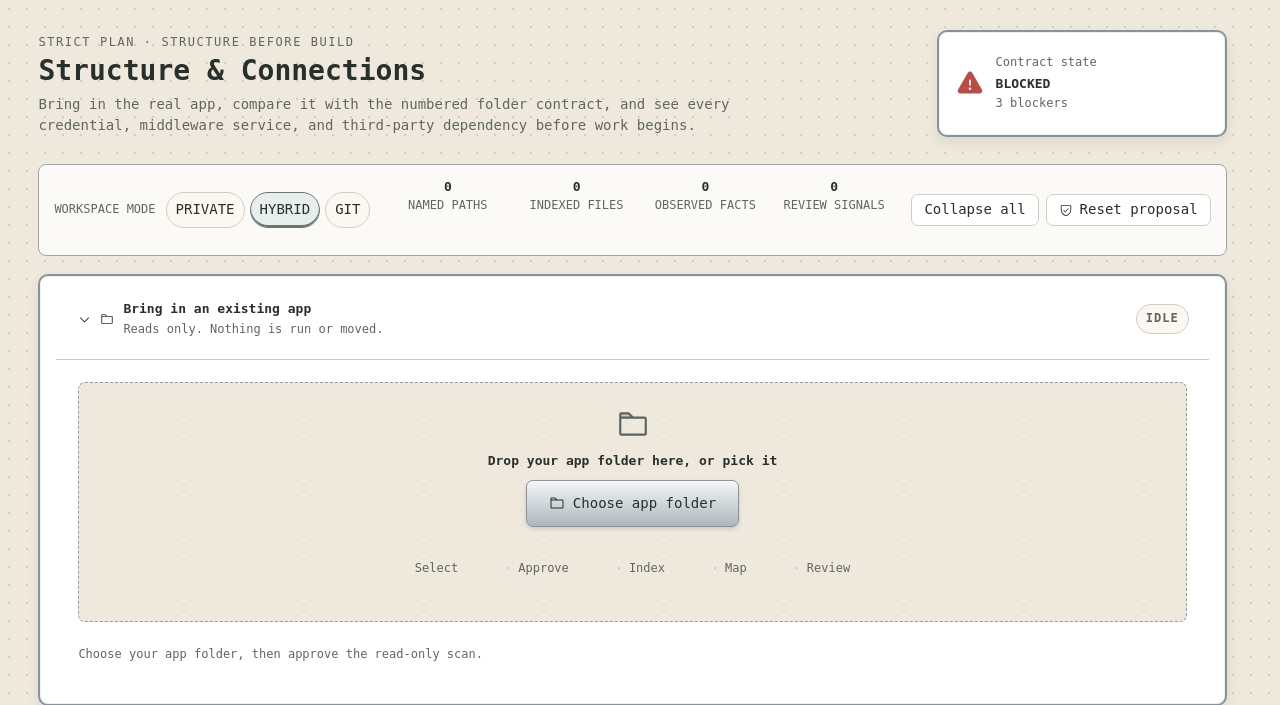
Test: Structure workspace runtime resilience › an authoritative-looking but unsafe census is visibly refused and only a fresh retry may publish
Click the button "Choose app folder" at (632, 503), box [526,480,739,527]
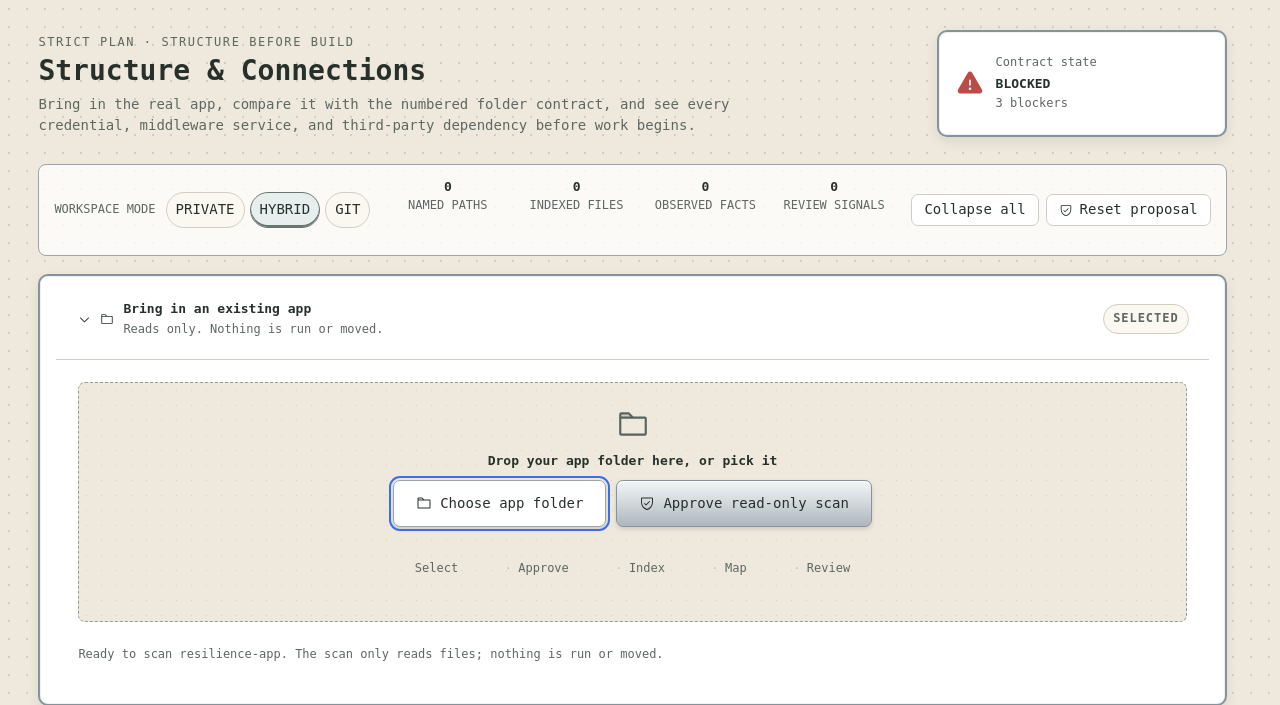
Click the button "Approve read-only scan" at (744, 503), box [616,480,872,527]
(page scrolled)
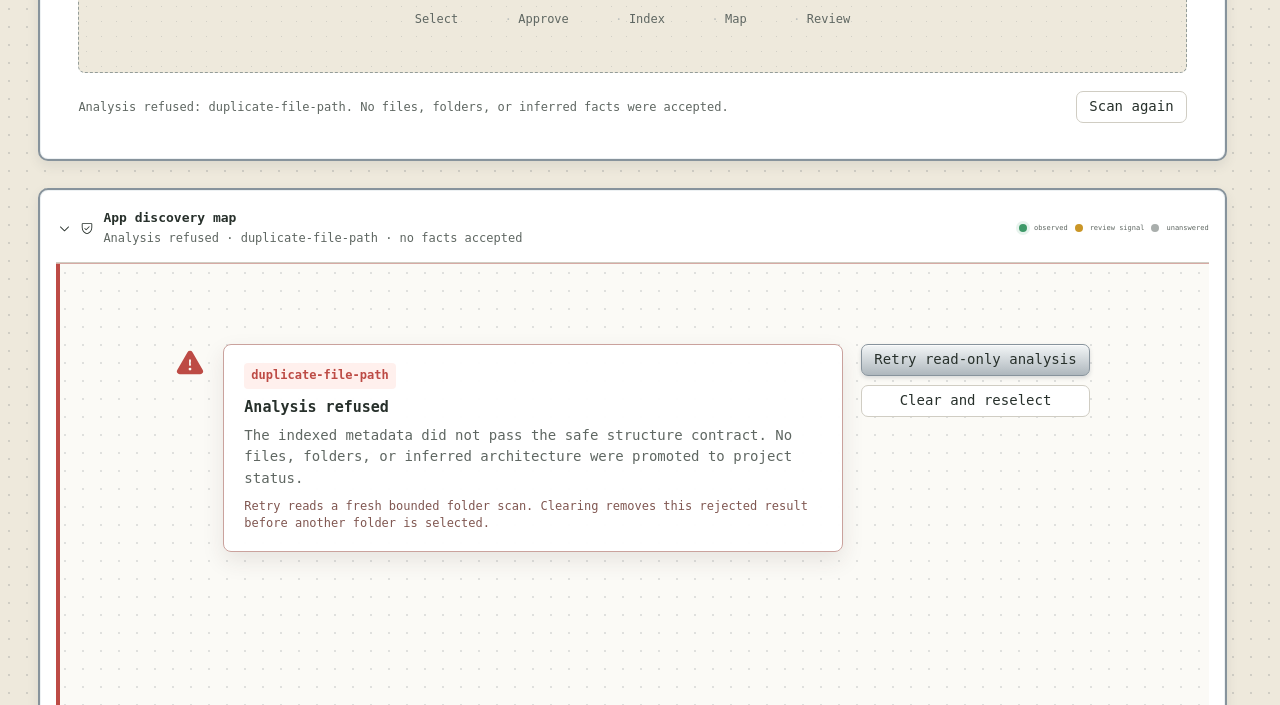
Expected: the message named "Folder analysis refused" shows "duplicate-file-path", [251,368,389,382]
Expected: the message named "Folder analysis refused" shows "No files, folders, or inferred architecture were promoted", [244,427,792,486]
Expected: the text "analysis refused" is shown 2 times
Click the button "Retry read-only analysis" at (975, 360), box [861,344,1090,376]
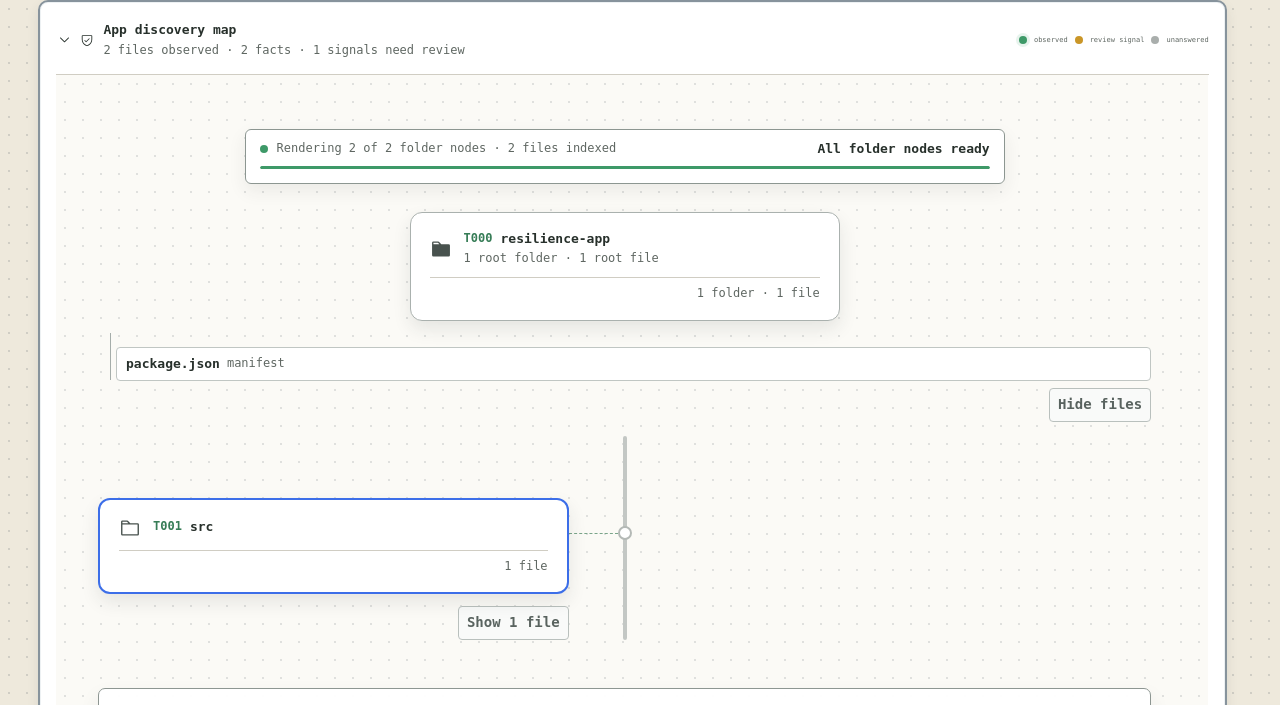
Expected: the text "2 files observed · 2 facts · 1 signals need review" is shown, [103,42,465,59]
